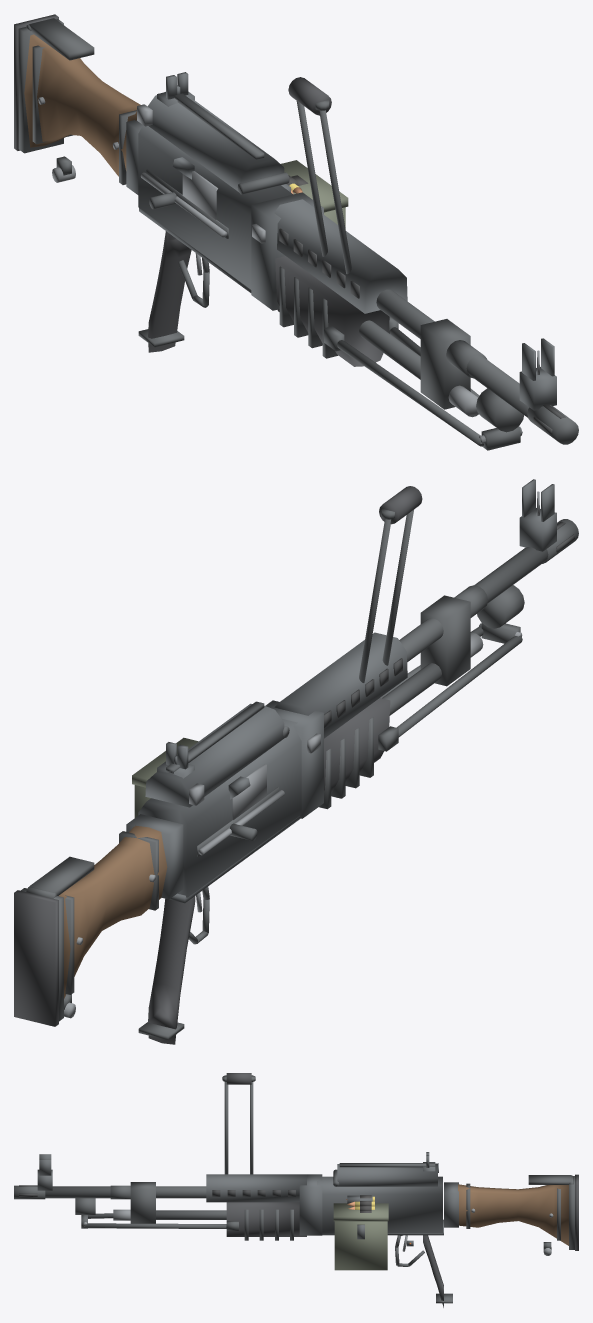
The picture shows the model from 3 angles, top to bottom: view 1: azimuth 30°, elevation 25°; view 2: azimuth 150°, elevation 25°; view 3: azimuth 270°, elevation 25°; orthographic projection. The views are drawn at different scales.
Parts seen in each view (by area): view 1: body, mag; view 2: body, mag; view 3: body, mag.
Part boxes in pixels (bbox=[...]): body: bbox=[14, 14, 578, 450]; mag: bbox=[281, 160, 348, 228]; body: bbox=[14, 479, 578, 1044]; mag: bbox=[132, 737, 198, 817]; body: bbox=[14, 1073, 578, 1307]; mag: bbox=[333, 1195, 388, 1270].
Size of the model in its own units: 0.17 by 0.4847 by 1.12.
